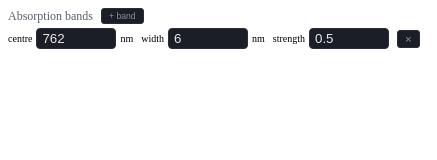
Test: AbsorptionBandsEditor › adds and removes, announcing each time
This screenshot has width=437, height=160.
Click the button with class "mini" showing "+ band" at (122, 16), box [101, 8, 144, 24]
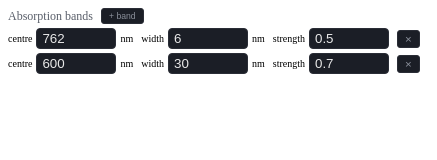
Check: the number of elements with class "band-row" is 2, box [8, 28, 420, 49]; [8, 53, 420, 74]
Click the 2nd button with class "danger" at (408, 64), box [397, 54, 420, 72]
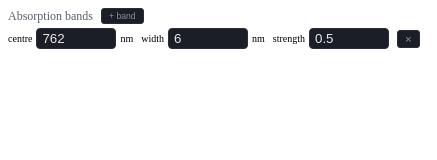
Check: the number of elements with class "band-row" is 1, box [8, 28, 420, 49]
